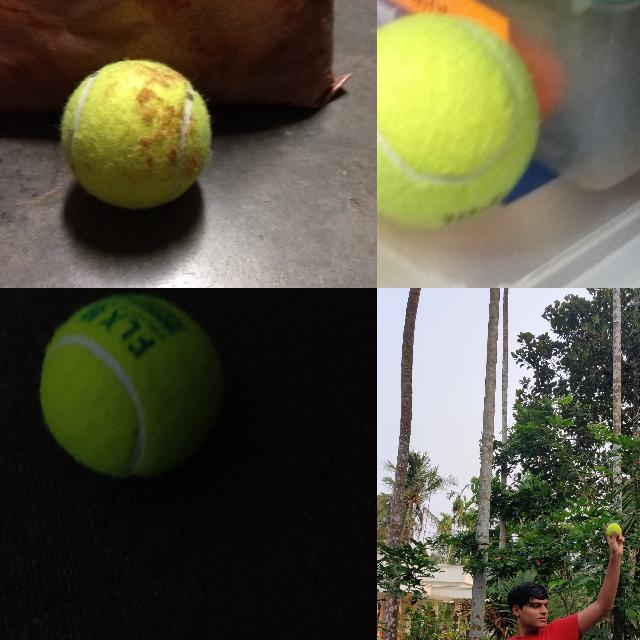tennis-ball: (377, 13, 542, 230), (39, 293, 226, 477), (58, 59, 212, 210), (606, 523, 620, 537)
